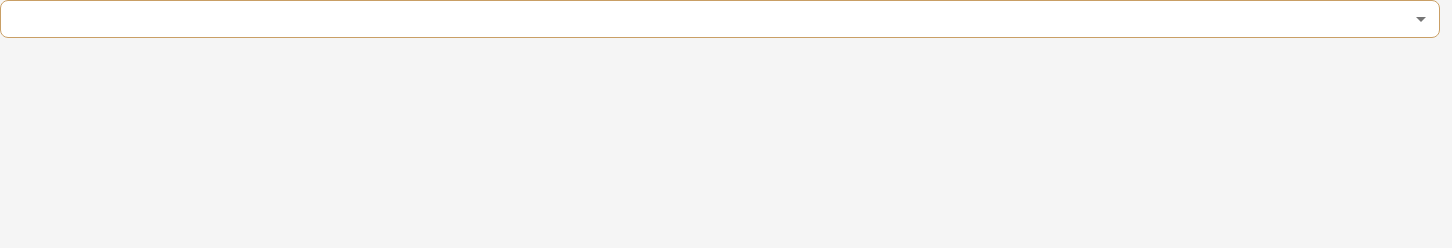
Test case: SearchableSelect Component › opens menu on click and displays options
Click the dropdown.
click(720, 19)  # box [0,0,1440,39]
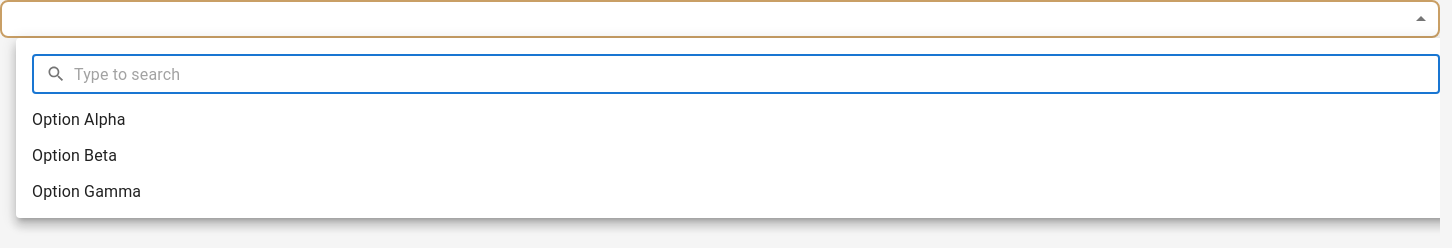
Now the field with placeholder "Type to search" is shown, box [74,54,1440,94]
Now the text "Option Beta" is shown, box [32,146,117,165]
